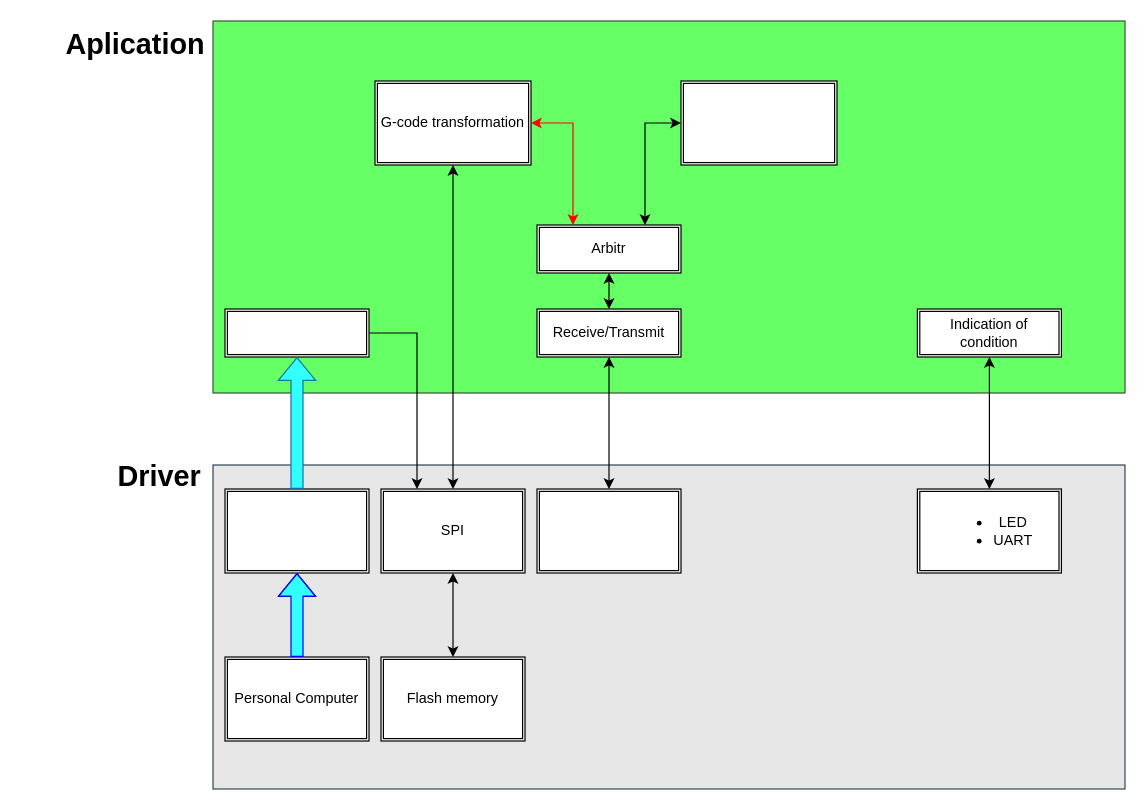
The diagram is 1146 pixels wide and 810 high, and some of its shapes have lost their labels. The centre of each missing label's shape, as x and y in pixels:
"CAN FD" belongs at [608,530].
"ERR" belongs at [758,122].
"Receive from computer" belongs at [296,332].
"SPI Wi-Fi UART" belongs at [296,530].
